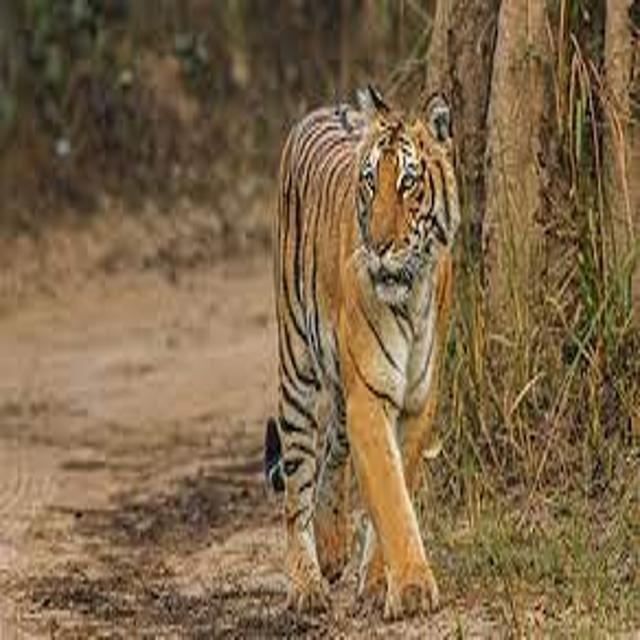tiger: (229, 61, 508, 636)
